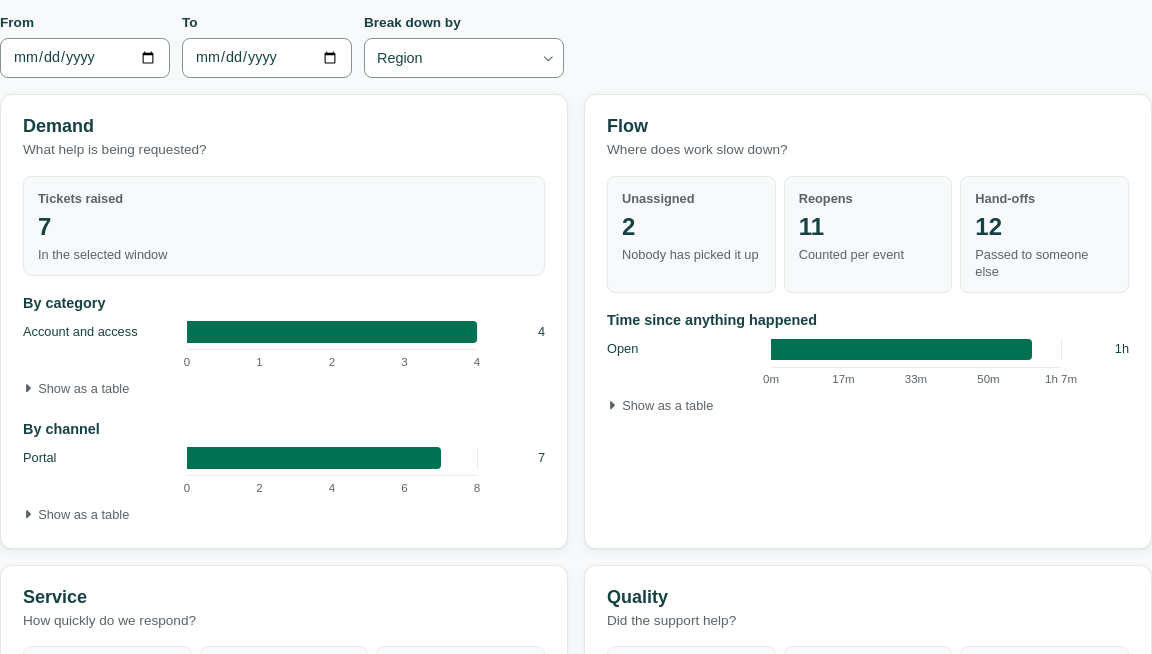
TicketAnalyticsPage › tells the reader why the bars are ids when the roster did not load
Press the mouse on the element with id "ticket-analytics-dimension" at (464, 58), box [364,38,564,78]
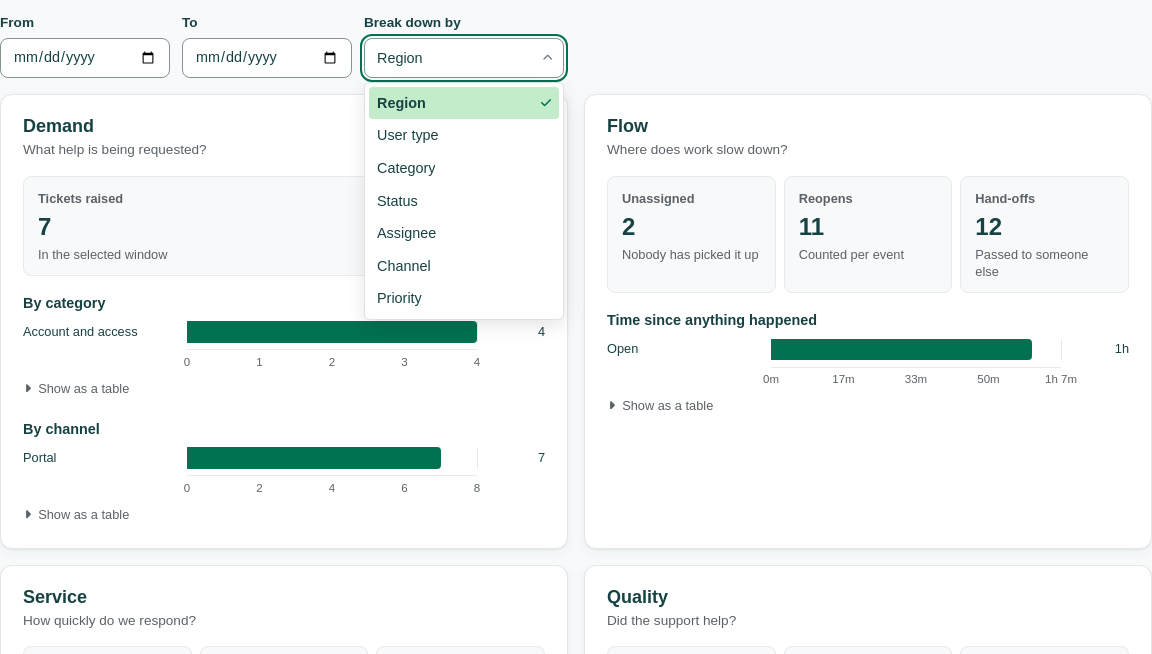
Press the mouse on the option "Assignee" at (407, 233), box [377,225,436,241]
(page scrolled)
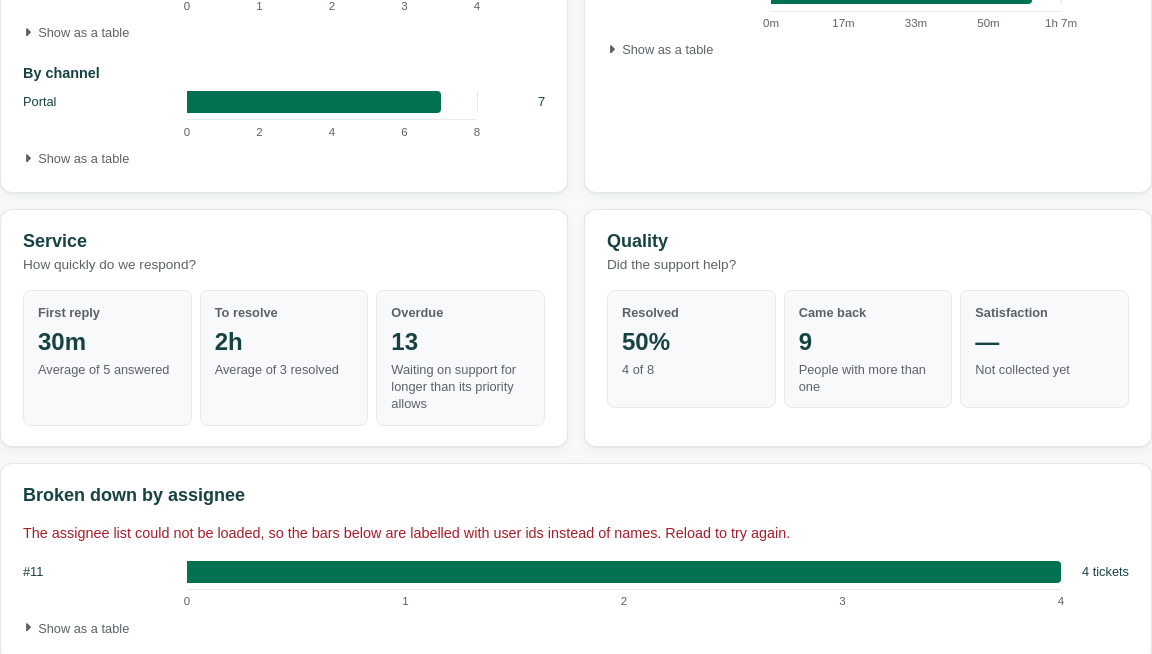
Now the message shows "The assignee list could not be loaded, so the bars below are labelled with user ids instead of names. Reload to try again.", box [23,525,790,541]
